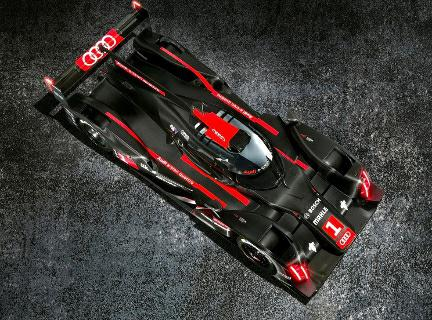奥迪-R18: (28, 2, 384, 304)
